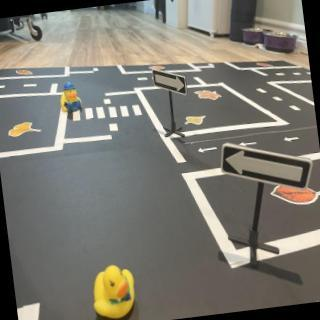duck_regular: (91, 264, 139, 319)
duck_specialty: (58, 79, 86, 115)
road_crosswalk: (70, 97, 147, 128)
road_oneway: (198, 144, 220, 155), (282, 135, 304, 145), (239, 140, 261, 149)
sign_oneway_left: (219, 134, 314, 199)
sign_oneway_right: (153, 68, 191, 101)
